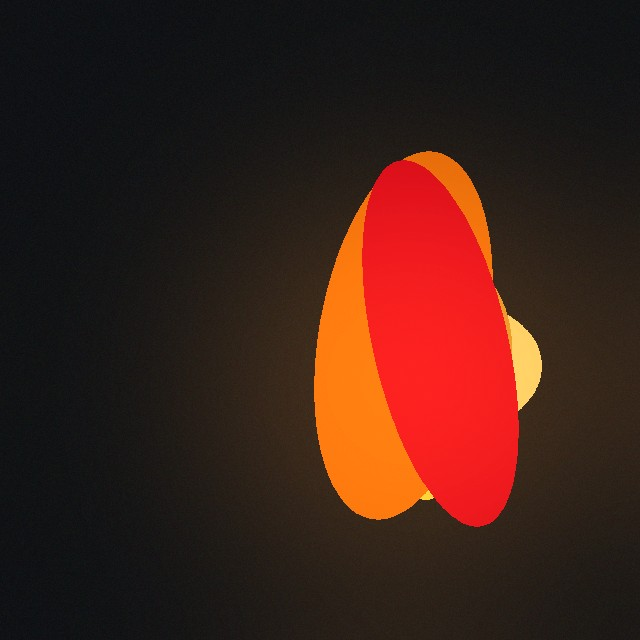fire: (273, 305, 541, 457)
